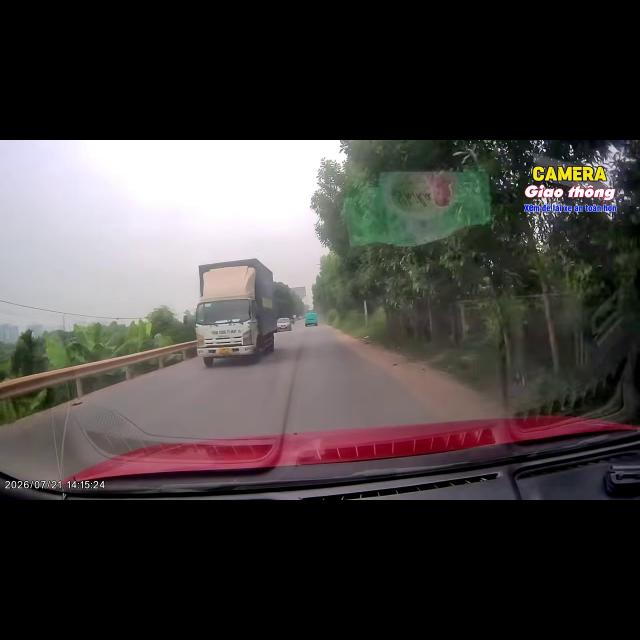car: (277, 318, 291, 331), (305, 313, 317, 326)
truck: (196, 259, 276, 366)
